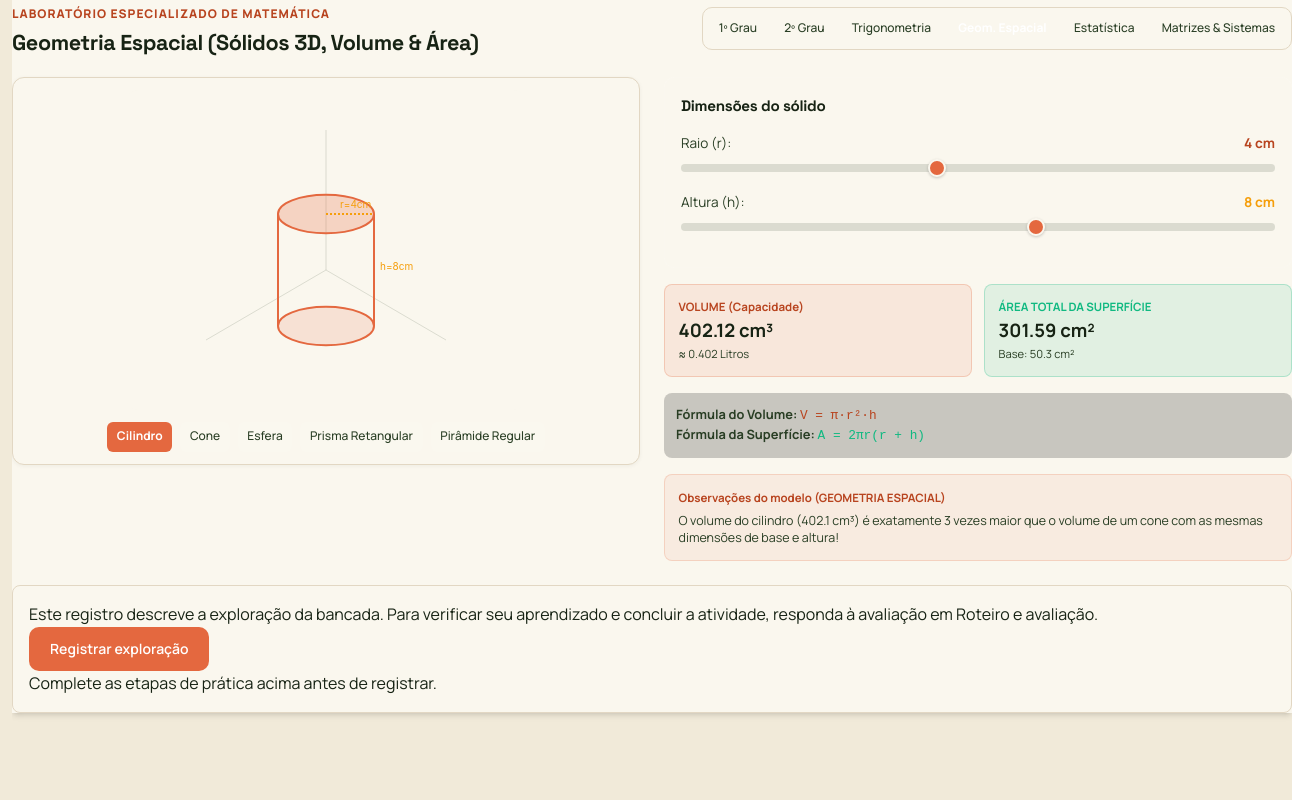
Test case: MathSimulator - 6 Unique Specialized Laboratories Suite › 4. Spatial Geometry Mode renders 3D Solids, Volume, and Surface Area
The width and height of the screenshot is (1292, 800).
Expected: the heading "Geometria Espacial (Sólidos 3D, Volume & Área)" is shown, 12,29 -> 479,57
Expected: the button "Cilindro" is shown, 107,422 -> 172,452
// Troca de sólido para Esfera e confere recálculo
Click the button "Esfera": (265, 437) 238,422 -> 292,452
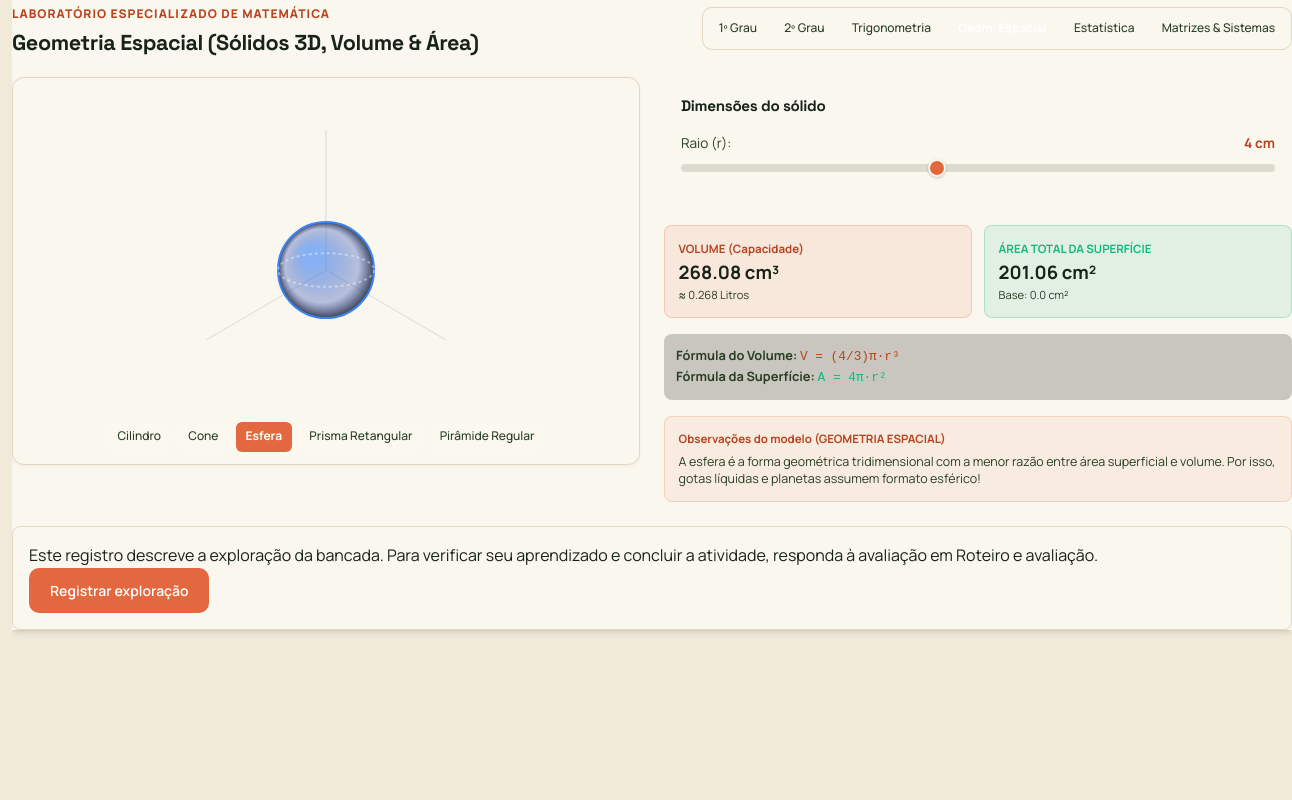
Expected: the text "Fórmula do Volume:" is shown, 676,346 -> 797,364
Set the slider to "2": (772, 168) 681,164 -> 1275,172
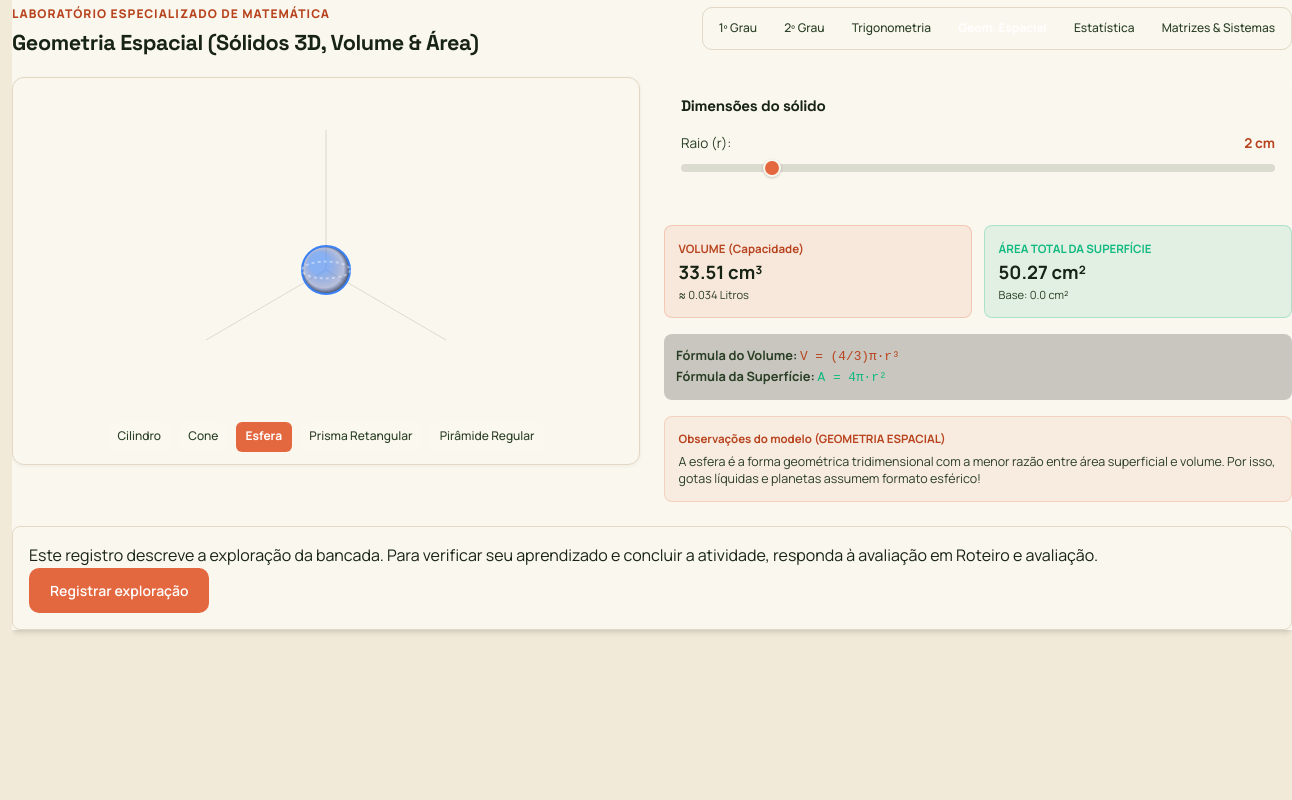
Click the button "Registrar exploração": (119, 590) 29,568 -> 210,613
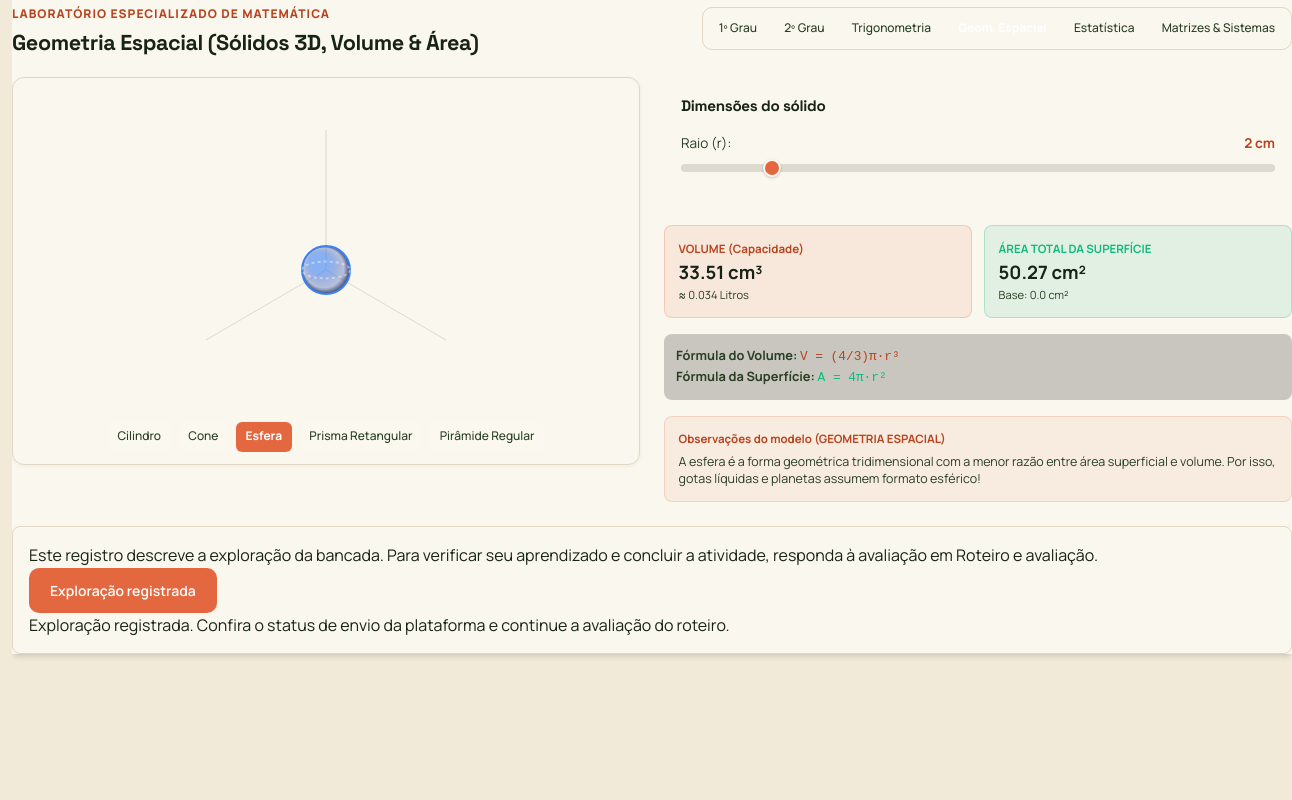
Now the button "Exploração registrada" is shown, box 29,568 -> 217,613
